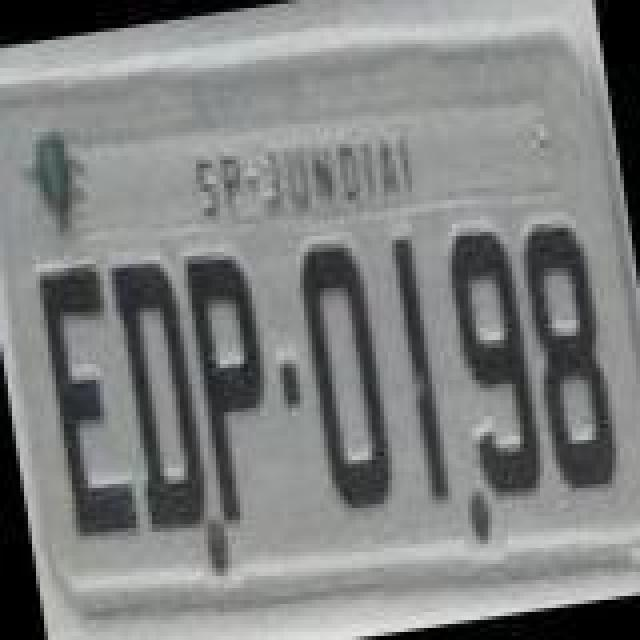1: (392, 230, 456, 506)
8: (512, 214, 624, 498)
9: (442, 220, 550, 500)
D: (106, 254, 214, 538)
E: (34, 258, 142, 542)
O: (290, 234, 398, 518)
P: (178, 246, 286, 522)
